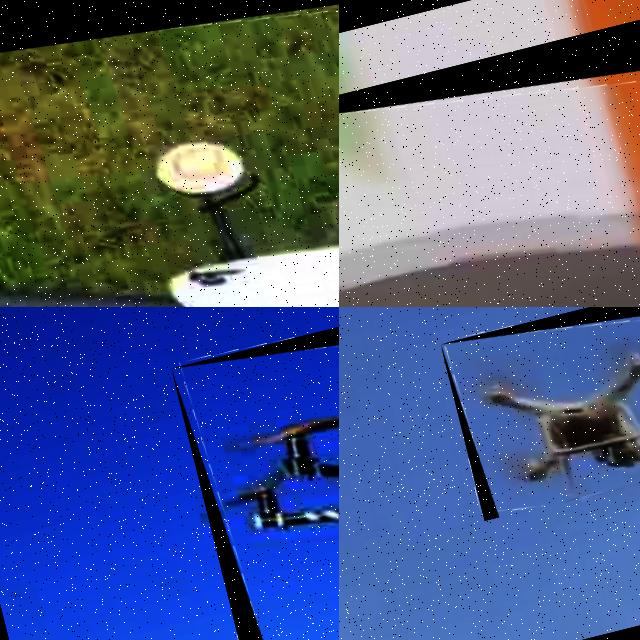drone: (0, 0, 339, 307), (339, 0, 640, 307), (171, 307, 339, 640), (440, 307, 640, 520)
